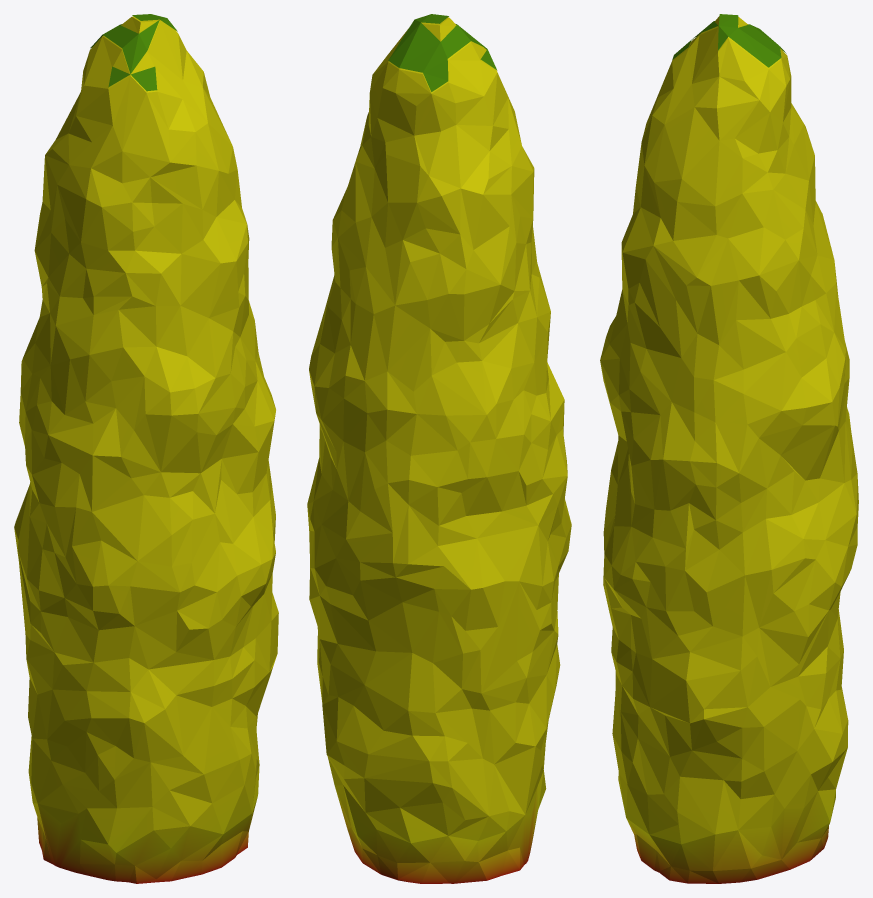
File: canyon_pillar_4.glb
The picture shows the model from 3 angles, left to right: view 1: azimuth 30°, elevation 25°; view 2: azimuth 150°, elevation 25°; view 3: azimuth 270°, elevation 25°; orthographic projection.
Parts seen in each view (by area): view 1: canyon_pillar_4.002; view 2: canyon_pillar_4.002; view 3: canyon_pillar_4.002.
Part boxes in pixels (x1,y1,x2,y2): canyon_pillar_4.002: (14, 14, 278, 883); canyon_pillar_4.002: (307, 14, 571, 883); canyon_pillar_4.002: (600, 14, 858, 883).
Size of what is drawn, in the model's own units: 13.36 by 45.79 by 13.
